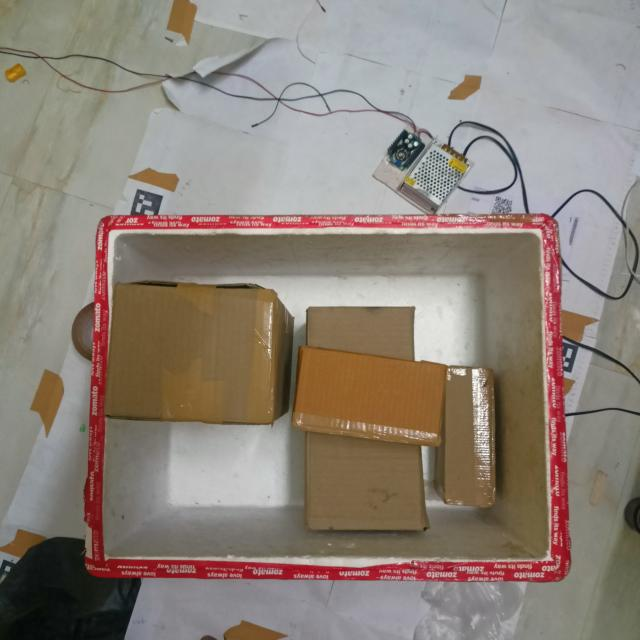box: (111, 282, 271, 427), (298, 347, 442, 440)
